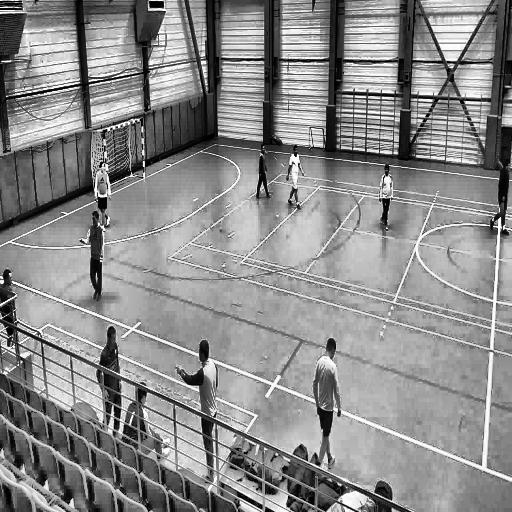player: (174, 338, 220, 447), (311, 338, 341, 471), (95, 324, 123, 426), (78, 210, 106, 304), (489, 145, 511, 237), (285, 144, 307, 212), (94, 161, 112, 229), (377, 164, 394, 235), (255, 142, 274, 203)
